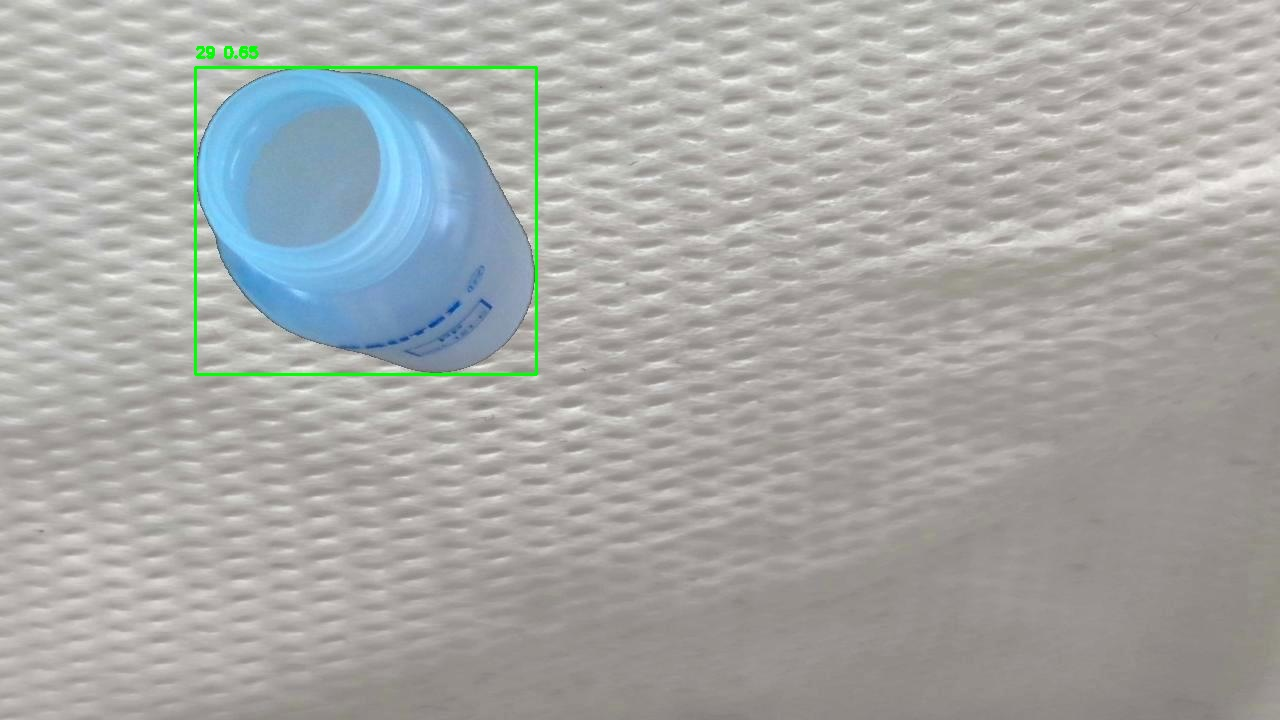cup: (195, 67, 536, 374)
